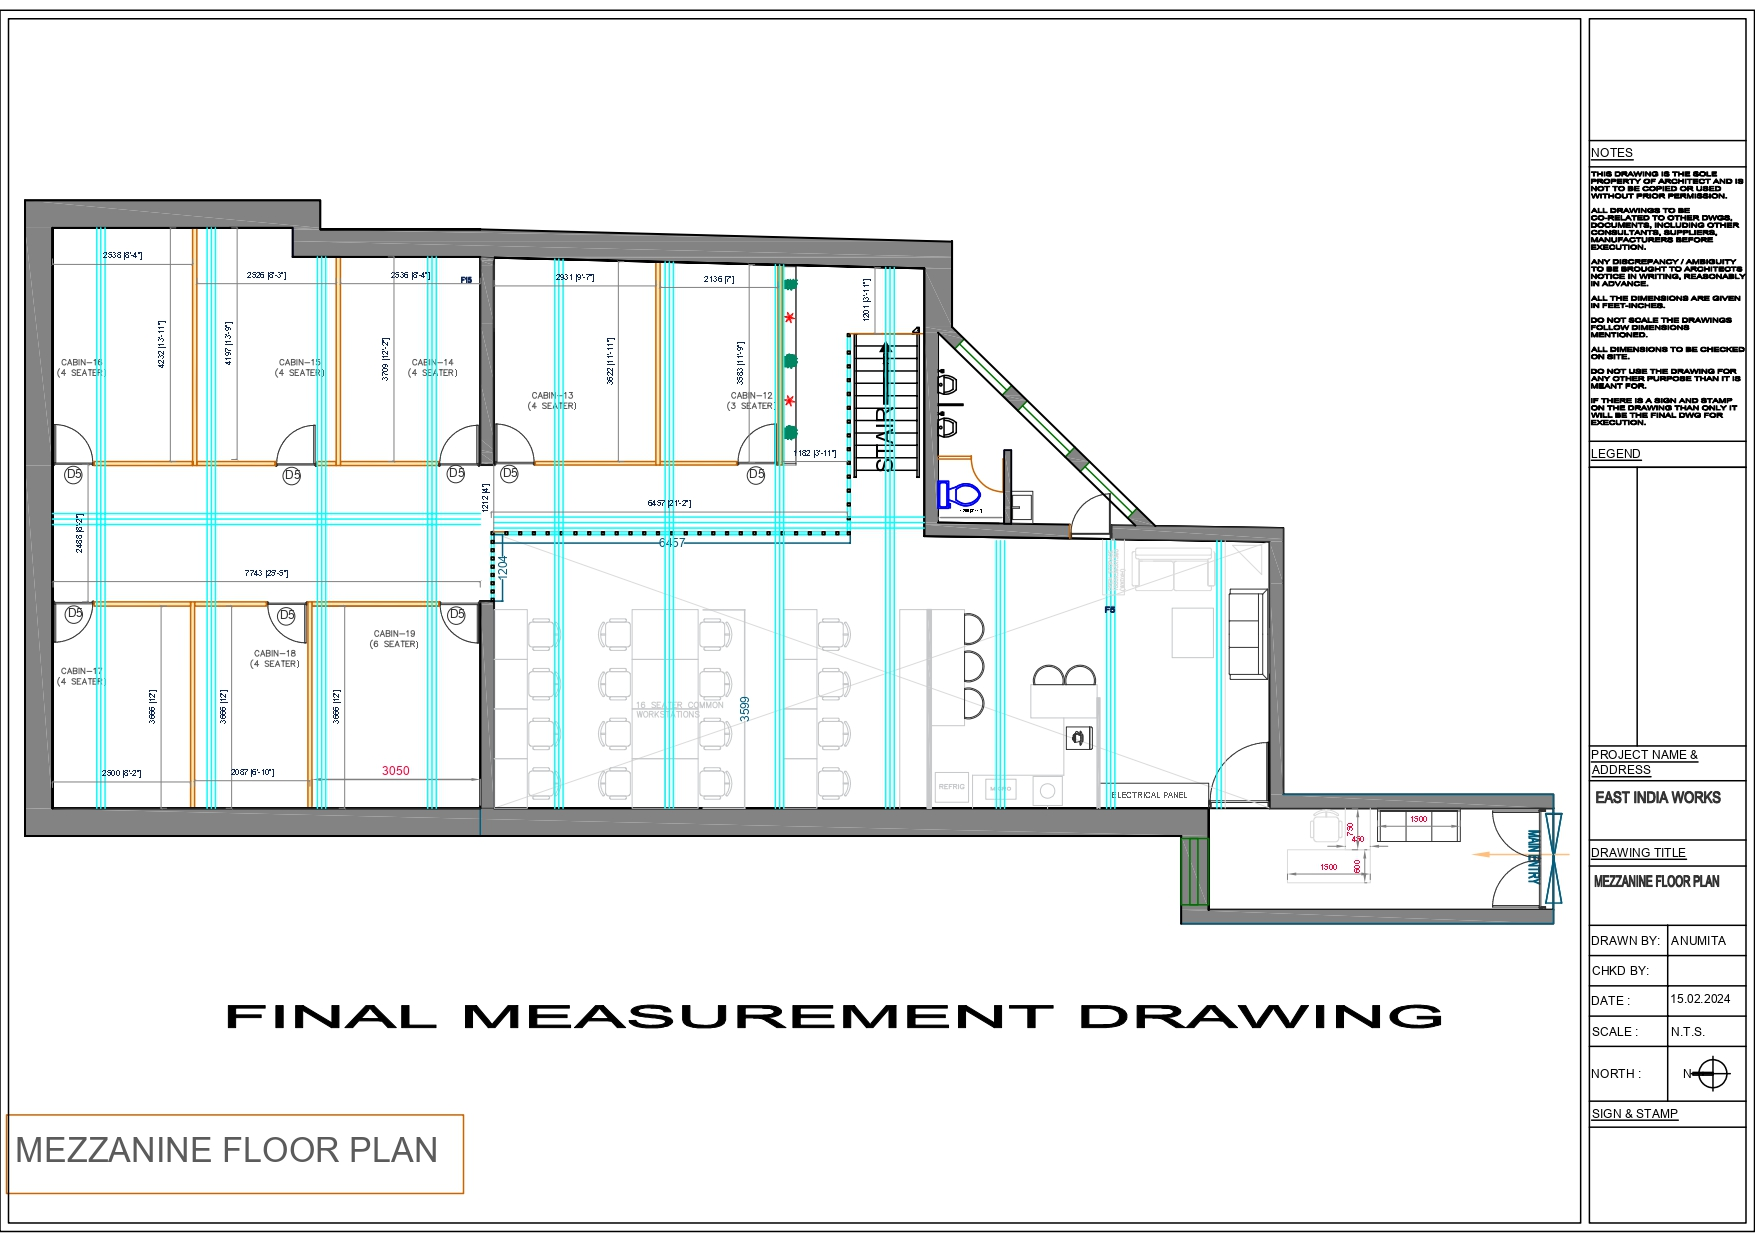door: (1207, 740, 1273, 809), (1489, 856, 1543, 912), (1489, 806, 1537, 858), (50, 420, 99, 467), (1069, 488, 1113, 537), (493, 420, 538, 465), (435, 602, 482, 645), (266, 603, 310, 646), (51, 603, 97, 645), (737, 422, 780, 465), (439, 423, 481, 466), (275, 424, 317, 466), (969, 455, 1008, 493)
